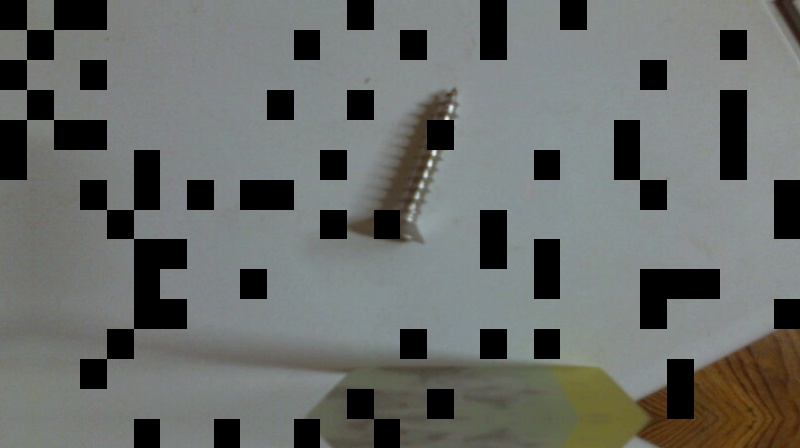S001: (375, 85, 462, 246)
